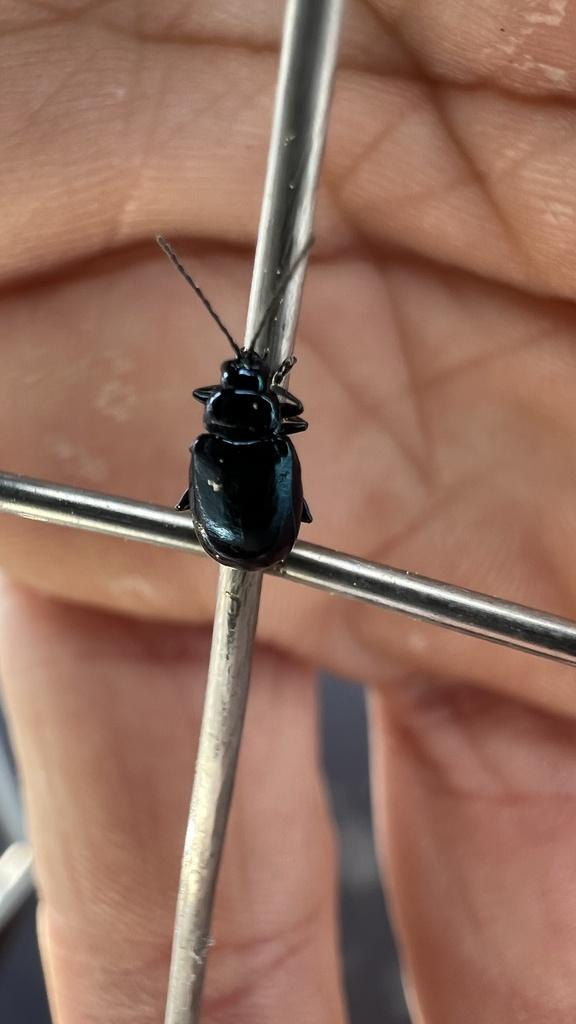flea_beetle: (110, 188, 434, 606)
